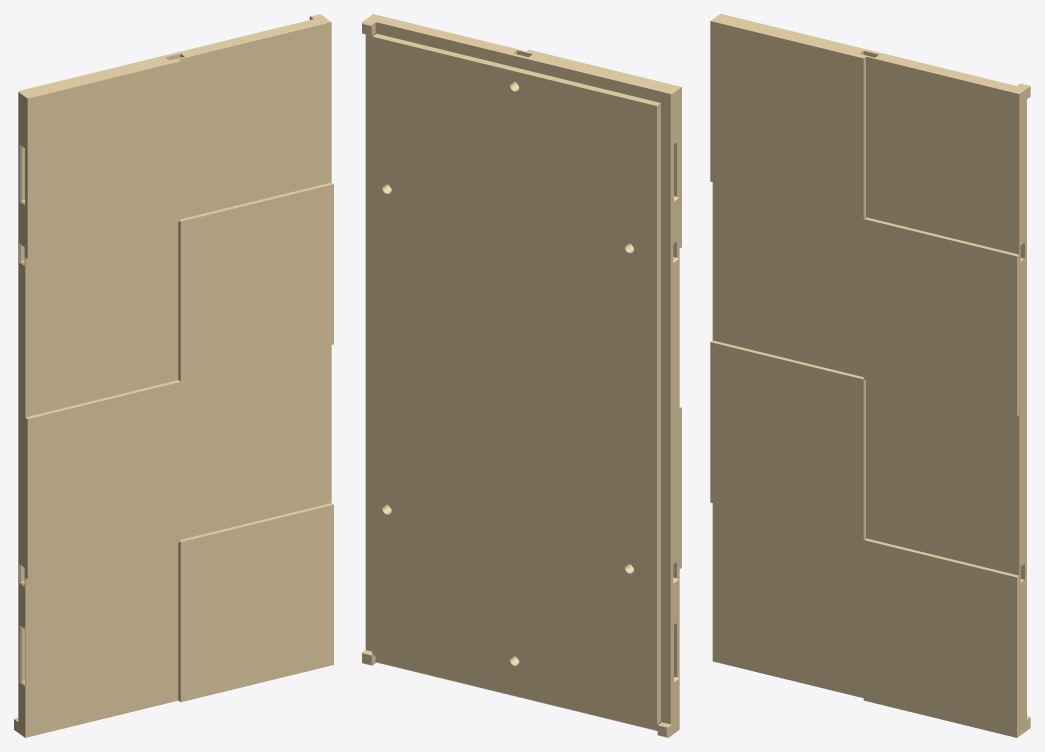
File: .panel_north_gh_light_body.step.glb
3 renders of one model, left to right at view 1: azimuth 30°, elevation 25°; view 2: azimuth 150°, elevation 25°; view 3: azimuth 330°, elevation 25°, orthographic.
Parts seen in each view (by area): view 1: o1; view 2: o1; view 3: o1.
Part boxes in pixels (box(x1,y1,x2,y2)): o1: box(14, 14, 333, 737); o1: box(362, 14, 681, 737); o1: box(710, 14, 1030, 737).
Size of the model in its own units: 0.12 by 0.24 by 0.0096.
